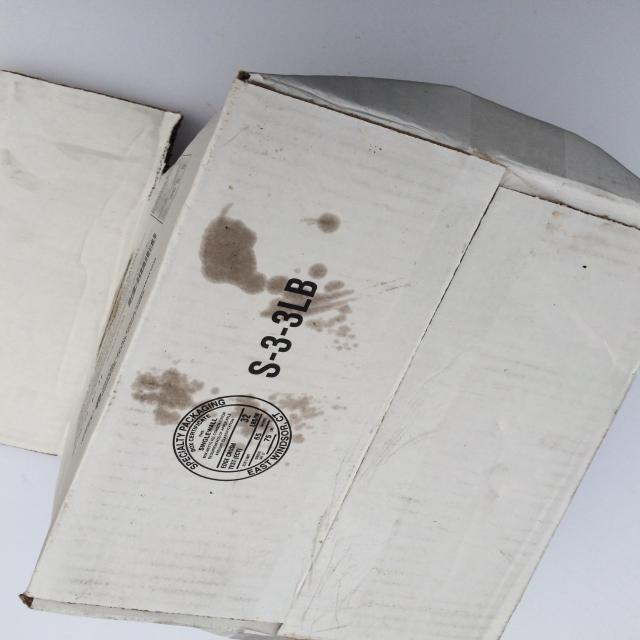cardboard: (17, 69, 640, 640)
